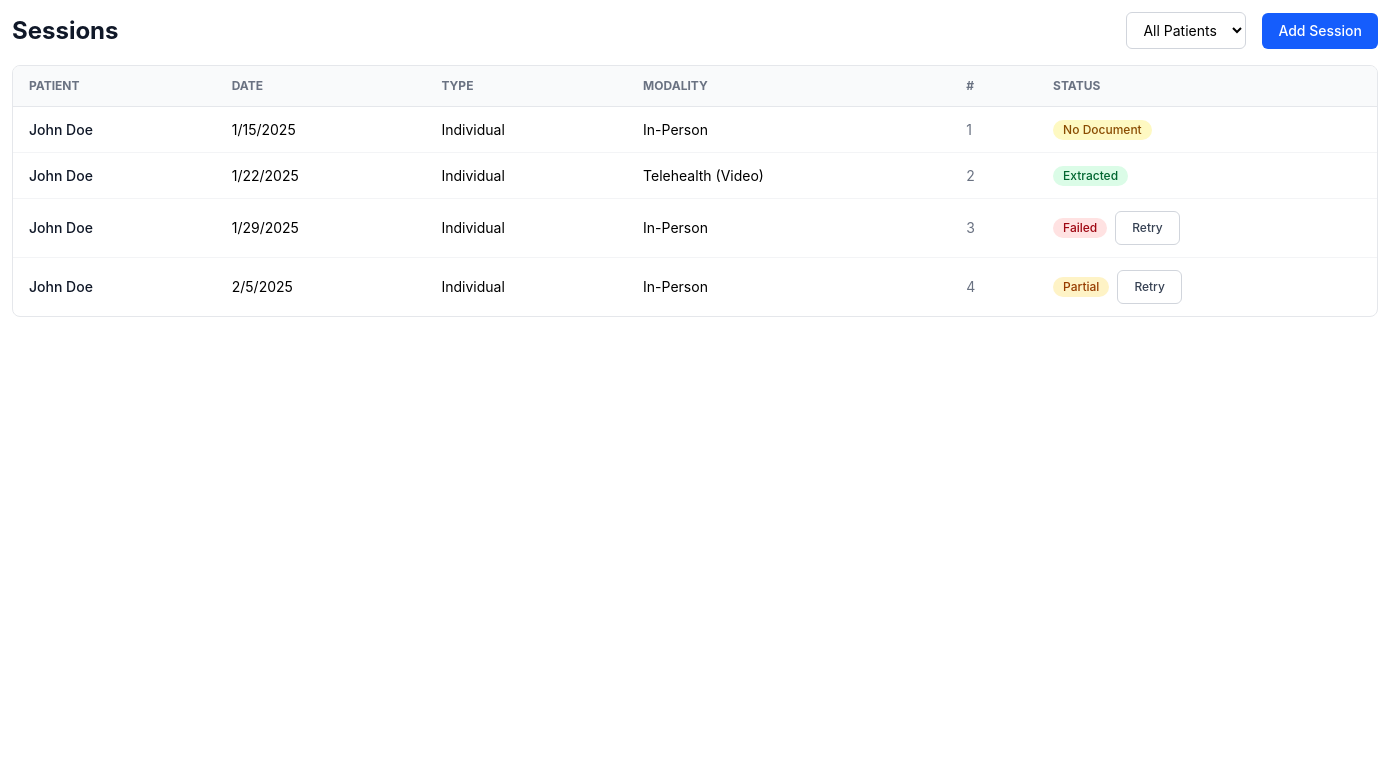
Test case: Sessions page › shows add session form when clicking Add Session
Click the button "Add Session": [1320, 30] box 1262,12 -> 1378,48
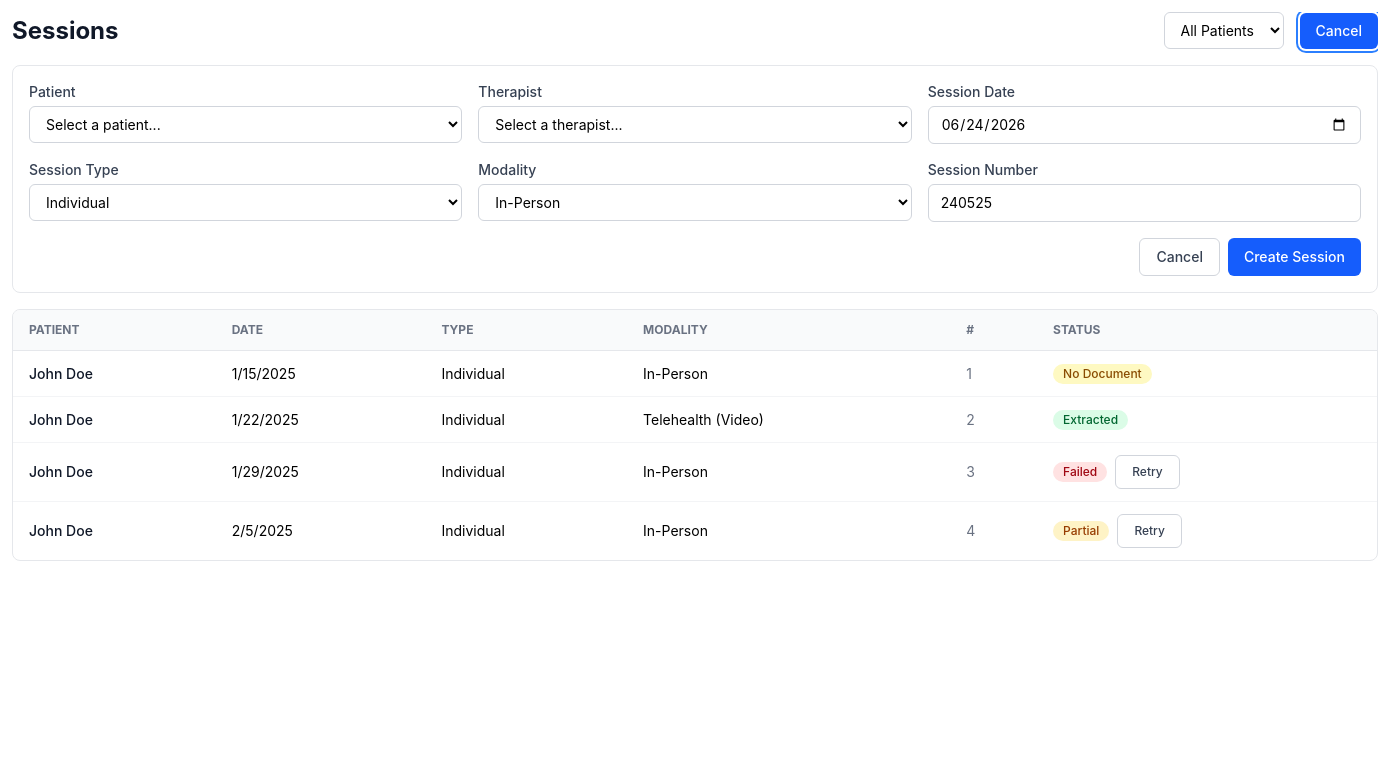
Expected: the dropdown labelled "Patient" is shown, 29,106 -> 462,143
Expected: the date field labelled "Session Date" is shown, 928,106 -> 1361,144
Expected: the dropdown labelled "Session Type" is shown, 29,184 -> 462,221
